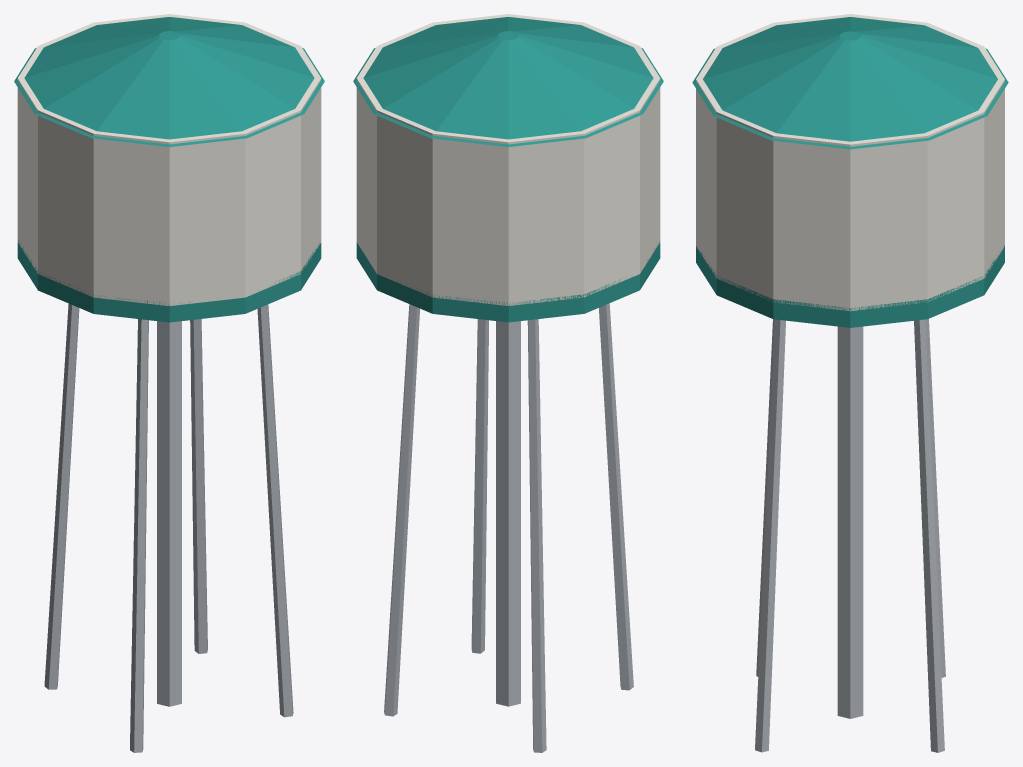
File: water_tower.glb
3 views of the same model, side by side, from view 1: azimuth 30°, elevation 25°; view 2: azimuth 150°, elevation 25°; view 3: azimuth 270°, elevation 25° (orthographic).
Visible parts, largest first — view 1: water_tower; view 2: water_tower; view 3: water_tower.
Boxes of the visible parts, x1,y1,x2,y2 form: water_tower: (14, 14, 324, 752); water_tower: (353, 14, 663, 752); water_tower: (692, 14, 1008, 752).
Size of the model in its own units: 8.6 by 20.31 by 8.6.
